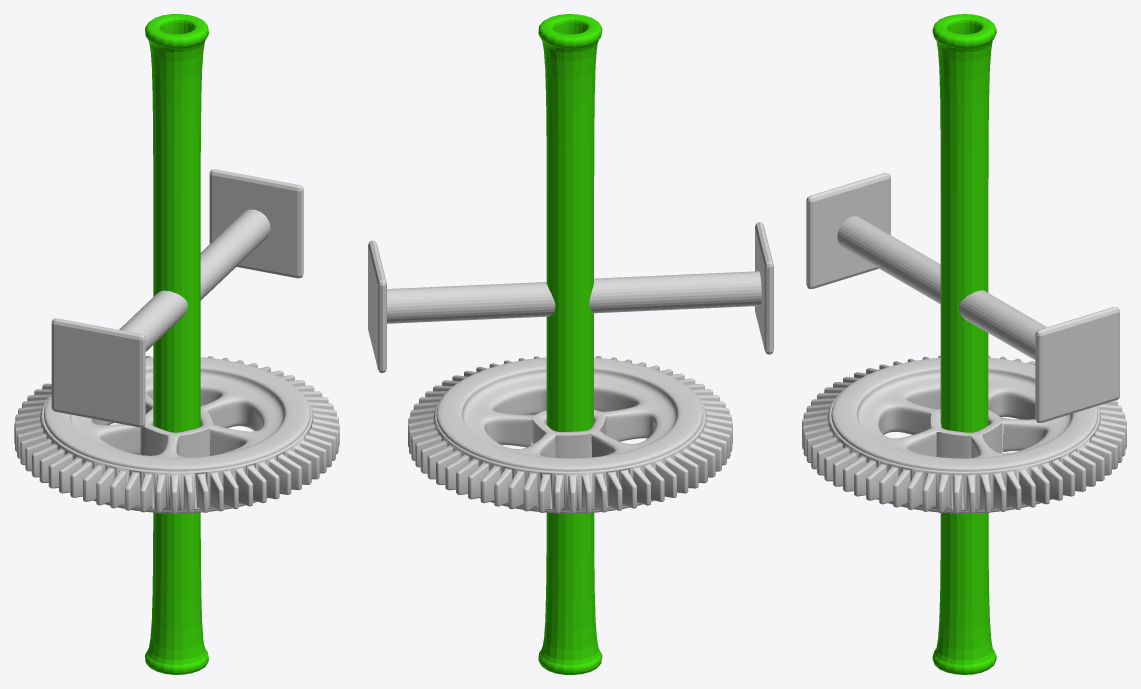
The model's file is bar3.glb.
The picture shows the model from 3 angles, left to right: view 1: azimuth 30°, elevation 25°; view 2: azimuth 150°, elevation 25°; view 3: azimuth 270°, elevation 25°; orthographic projection.
Parts seen in each view (by area): view 1: Circle.005, Circle.001, Circle, Plane.002, Plane.003; view 2: Circle.005, Circle, Circle.001, Plane.003, Plane.002; view 3: Circle.005, Circle, Circle.001, Plane.003, Plane.002.
Boxes of the visible parts, box(x1,y1,x2,y2) form: Circle.005: box(145, 14, 208, 674); Circle.001: box(14, 355, 339, 513); Circle: box(43, 357, 310, 513); Plane.002: box(51, 290, 187, 427); Plane.003: box(200, 169, 303, 300); Circle.005: box(538, 14, 602, 674); Circle: box(436, 357, 703, 513); Circle.001: box(408, 356, 732, 513); Plane.003: box(368, 240, 555, 372); Plane.002: box(589, 222, 773, 354); Circle.005: box(932, 14, 996, 674); Circle: box(831, 357, 1098, 513); Circle.001: box(802, 355, 1126, 513); Plane.003: box(958, 290, 1119, 422); Plane.002: box(806, 173, 940, 304).
Bounding box in the file's own units: 28.22 × 52.44 × 24.21.
